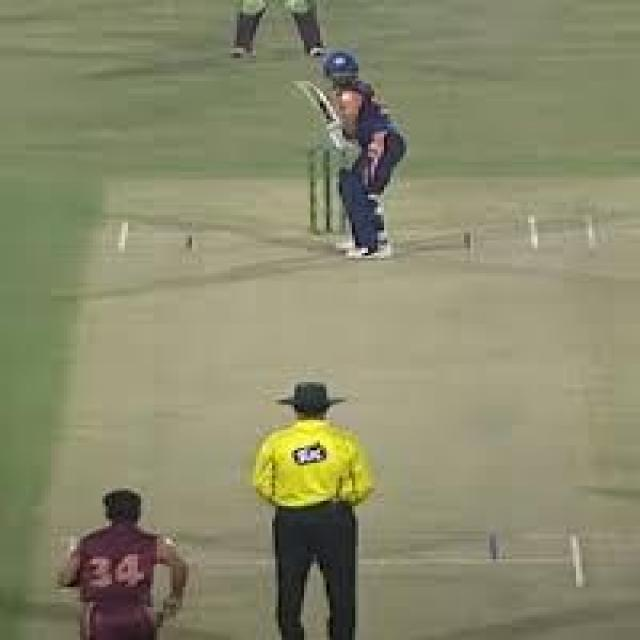bat: (295, 81, 341, 129)
toe: (289, 80, 318, 96)
